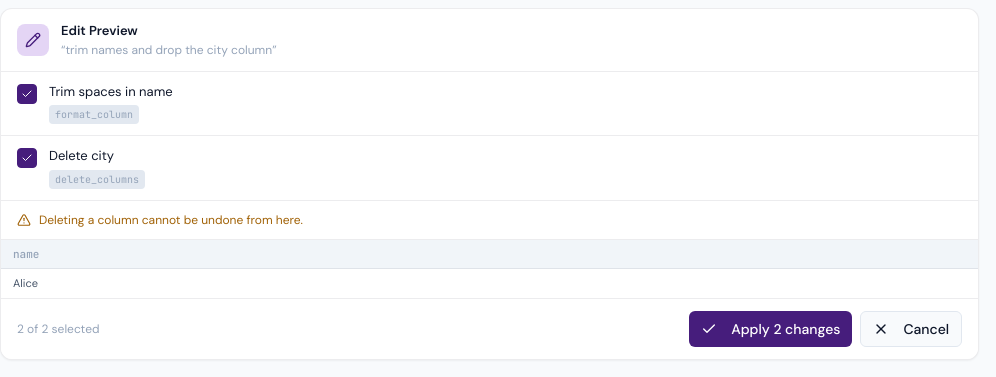
Test: ManipulationPreviewCard › re-previews on the server when the selection narrows
Click the button named "this change" next to "Delete city".
click(27, 158)  # box [17,148,37,168]
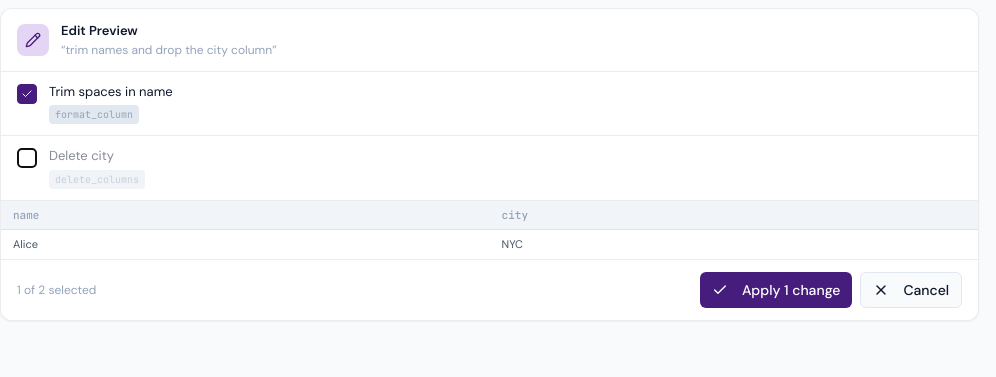
Check: the column heading "city" is shown, box [490,200,978,230]
